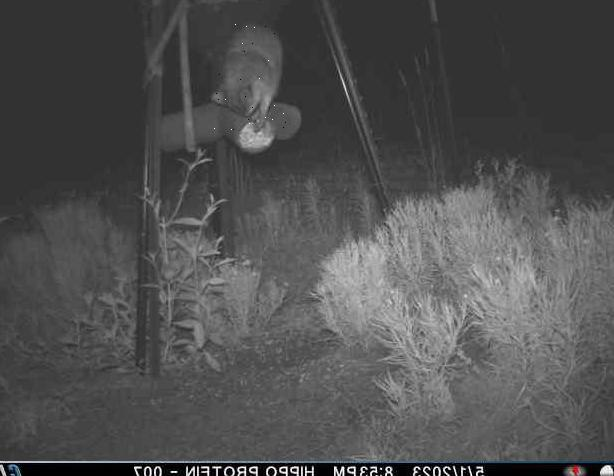Raccoon: (212, 19, 286, 131)
